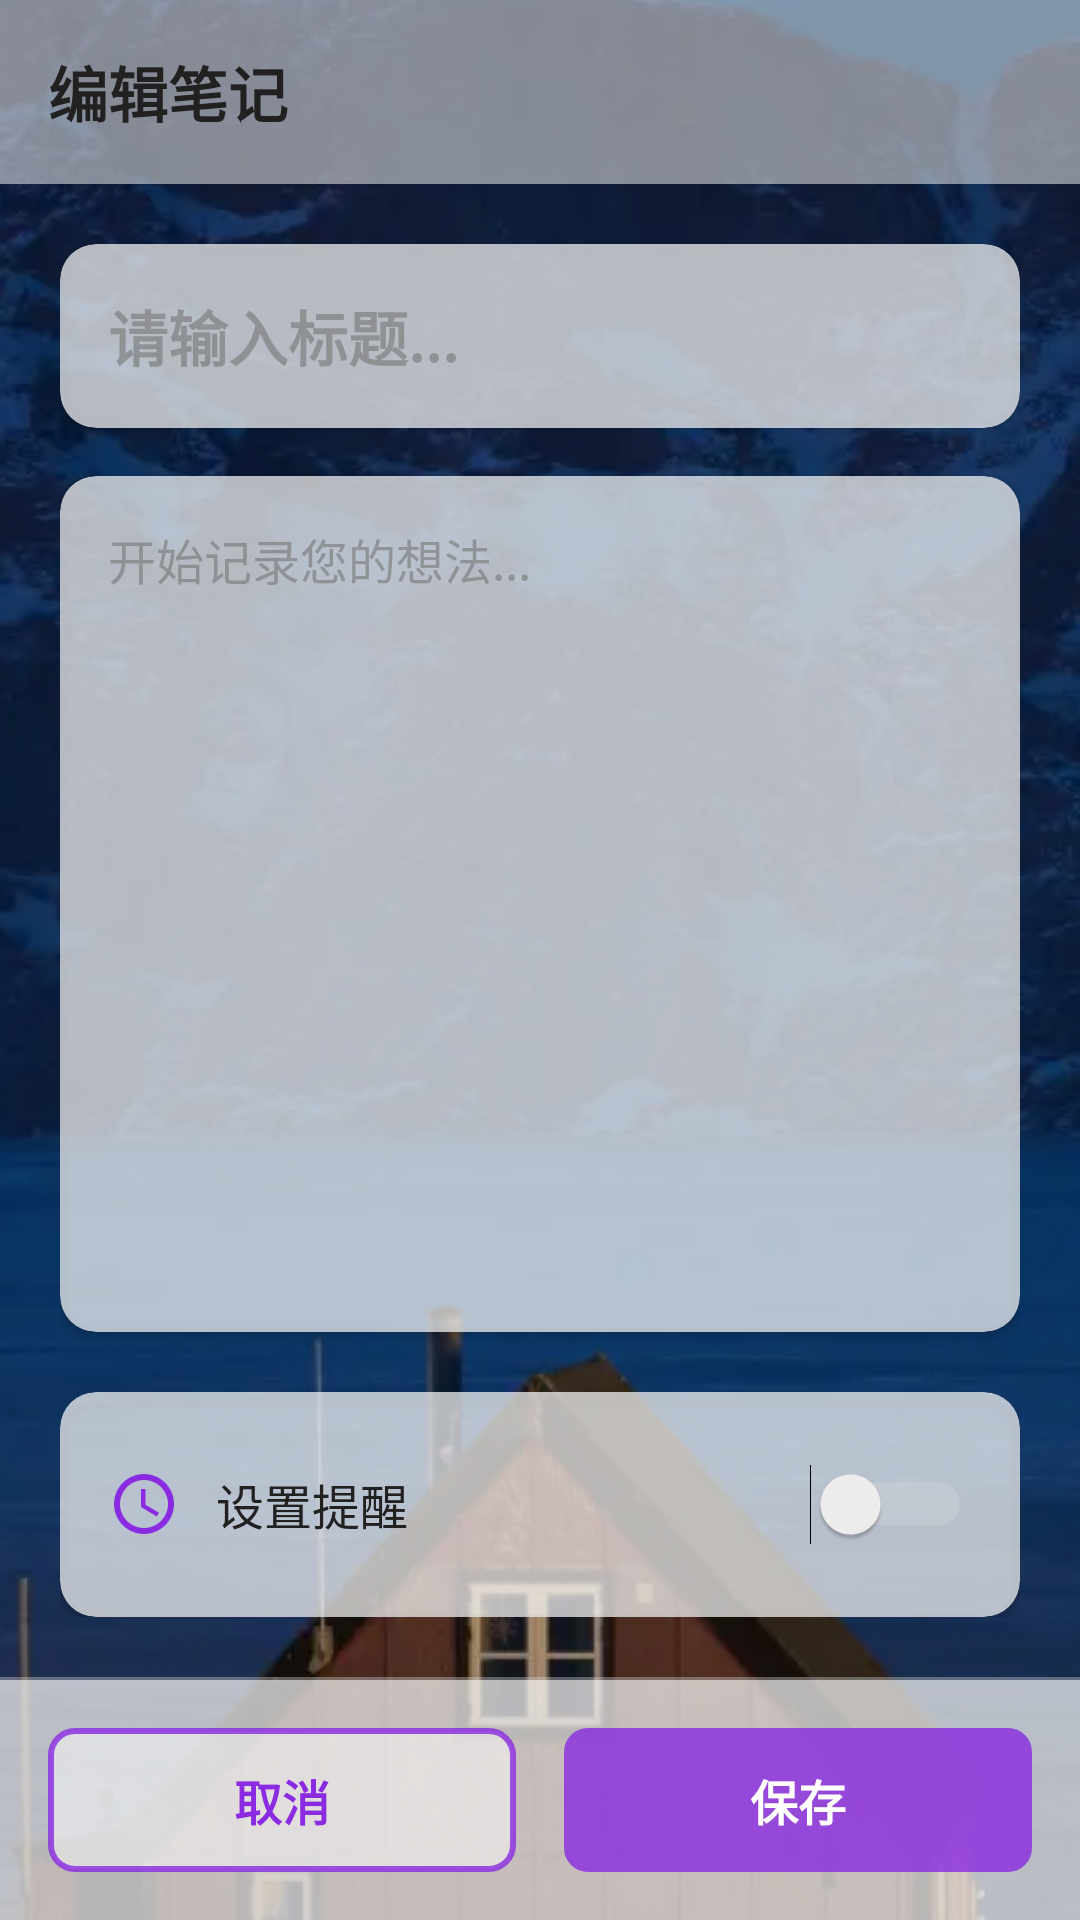

Icon click points for this 1080×1920 phone screenshot, format [x,y]:
alarm: [144,1504]
